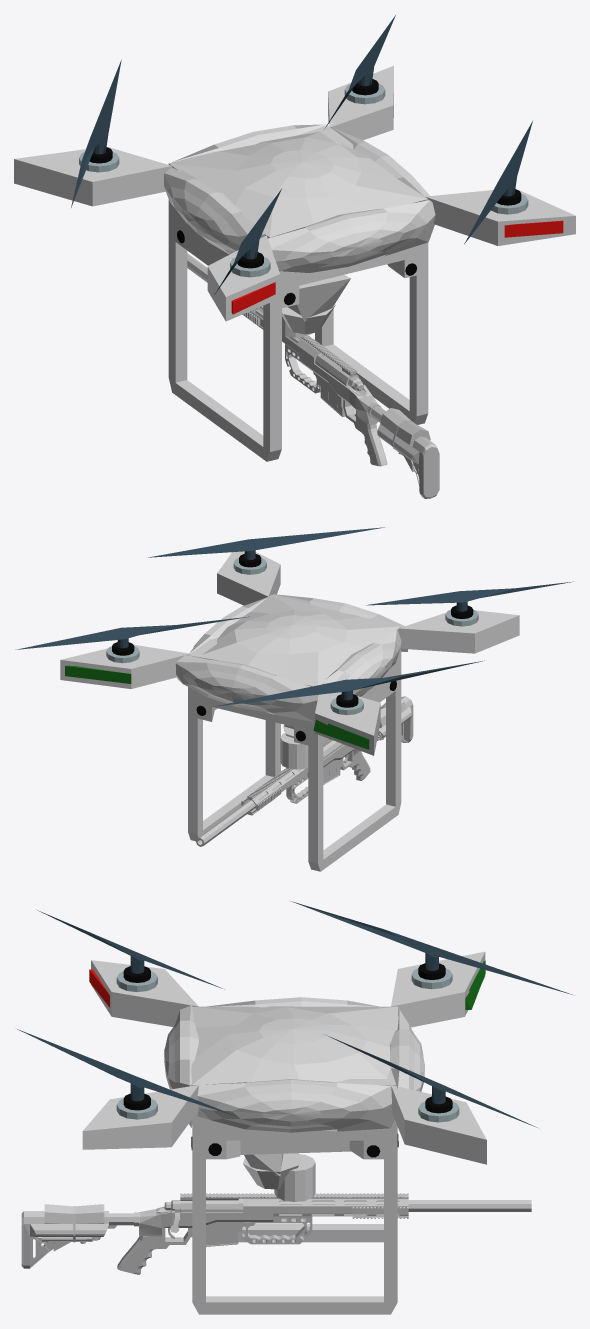
File: DroneSniper.obj
The picture shows the model from 3 angles, top to bottom: view 1: azimuth 30°, elevation 25°; view 2: azimuth 150°, elevation 25°; view 3: azimuth 270°, elevation 25°; orthographic projection. The views are drawn at different scales.
Parts seen in each view (by area): view 1: group1802215358, group1900742671, group1635633909, group2109774117, group1451992339, group562219596, group1472813429, group1434348068, group1947824049, group1351310026, group1719908566, group1726010505 (+17 smaller); view 2: group1802215358, group2114471358, group1351310026, group1947824049, group2109774117, group1451992339, group1472813429, group1635633909, group1434348068, group1506967990, group1326258638, group255131489 (+15 smaller); view 3: group1802215358, group992375522, group2109774117, group1947824049, group1635633909, group1345748236, group1351310026, group1726010505, group1506967990, group562219596, Stock_Sopmod, Handguard (+19 smaller).
Boxes of the visible parts, <box> form: group1802215358: <box>169,131,427,237</box>; group1900742671: <box>265,200,435,272</box>; group1635633909: <box>14,146,171,206</box>; group2109774117: <box>425,188,575,245</box>; group1451992339: <box>164,167,264,254</box>; group562219596: <box>409,254,428,416</box>; group1472813429: <box>168,219,187,382</box>; group1434348068: <box>263,290,281,451</box>; group1947824049: <box>328,65,393,140</box>; group1351310026: <box>207,235,280,321</box>; group1719908566: <box>169,378,281,461</box>; group1726010505: <box>168,200,428,290</box>; group1802215358: <box>202,594,400,686</box>; group2114471358: <box>175,654,318,721</box>; group1351310026: <box>398,610,519,653</box>; group1947824049: <box>60,644,190,688</box>; group2109774117: <box>217,551,280,605</box>; group1451992339: <box>324,630,401,696</box>; group1472813429: <box>308,730,323,863</box>; group1635633909: <box>315,692,380,755</box>; group1434348068: <box>386,672,401,806</box>; group1506967990: <box>188,701,202,834</box>; group1326258638: <box>214,660,484,706</box>; group255131489: <box>148,527,384,557</box>; group1802215358: <box>191,1006,398,1084</box>; group992375522: <box>197,1079,394,1132</box>; group2109774117: <box>82,1085,198,1149</box>; group1947824049: <box>391,1085,486,1164</box>; group1635633909: <box>391,951,485,1027</box>; group1345748236: <box>192,1296,397,1314</box>; group1351310026: <box>91,960,198,1026</box>; group1726010505: <box>192,1116,397,1140</box>; group1506967990: <box>384,1140,397,1302</box>; group562219596: <box>192,1140,205,1302</box>; Stock_Sopmod: <box>21,1211,108,1268</box>; Handguard: <box>243,1198,408,1216</box>.
Size of the model in its own units: 0.77 by 0.42 by 0.82.
